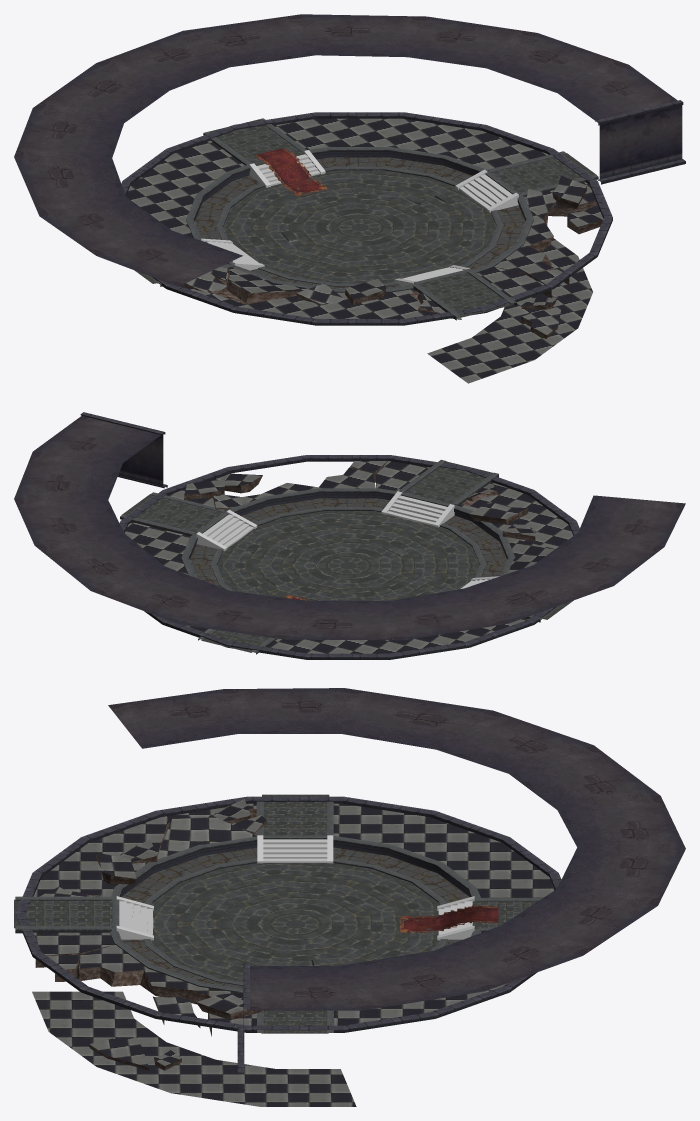
The model's file is terrain_section02_guanka02_a.FBX.
The picture shows the model from 3 angles, top to bottom: view 1: azimuth 30°, elevation 25°; view 2: azimuth 150°, elevation 25°; view 3: azimuth 270°, elevation 25°; orthographic projection. The views are drawn at different scales.
Parts seen in each view (by area): view 1: terrain_section02_guanka02_a; view 2: terrain_section02_guanka02_a; view 3: terrain_section02_guanka02_a.
Boxes of the visible parts, x1,y1,x2,y2 form: terrain_section02_guanka02_a: (14,14,685,383); terrain_section02_guanka02_a: (14,412,685,659); terrain_section02_guanka02_a: (14,688,685,1106).
Bounding box in the file's own units: 68.25 × 59.98 × 15.04.
